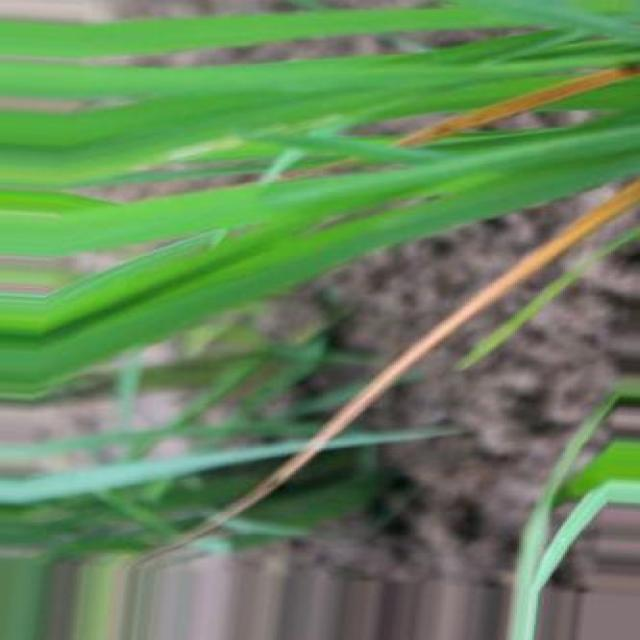Rice Tungro: (135, 180, 639, 563), (398, 68, 640, 146)
